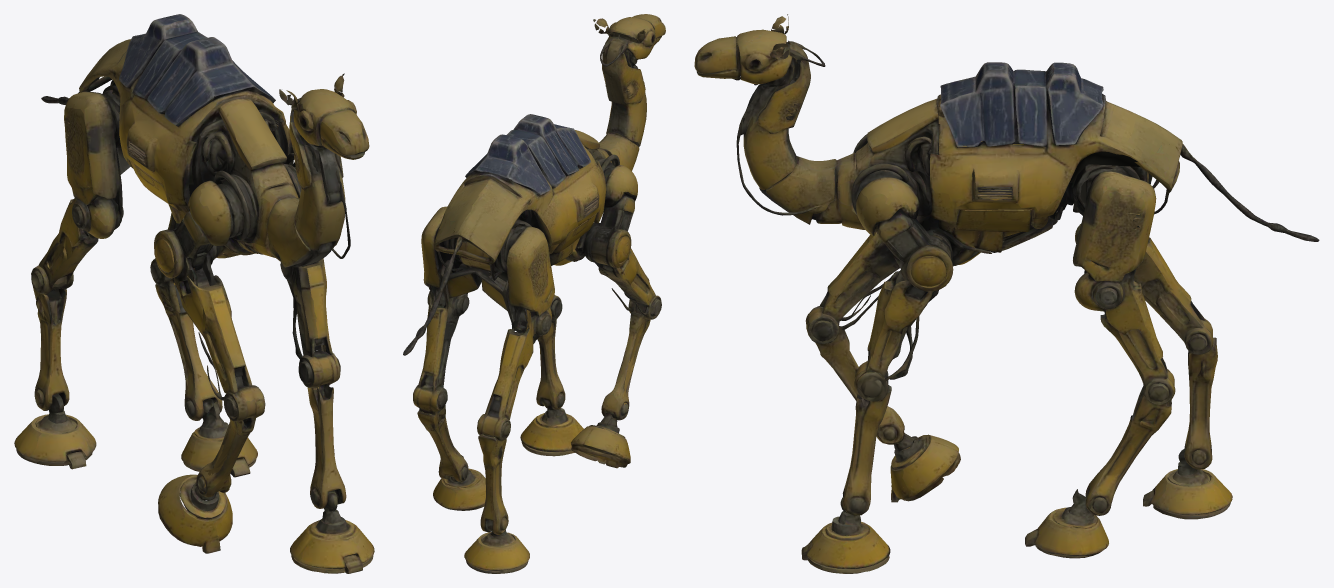
The picture shows the model from 3 angles, left to right: view 1: azimuth 30°, elevation 25°; view 2: azimuth 150°, elevation 25°; view 3: azimuth 270°, elevation 25°; orthographic projection. The views are drawn at different scales.
Parts seen in each view (by area): view 1: part_001_DORSAL_MODULE, part_002_FRONT_SHIN_L, part_003_HEAD_SENSOR, part_019_DORSAL_MODULE, part_008_DORSAL_MODULE, part_007_HEAD_SENSOR, part_013_FRONT_PAW_R, part_012_FRONT_PAW_L, part_005_FRONT_PAW_R, part_014_REAR_PAW_L, part_009_FRONT_THIGH_R, part_018_REAR_PAW_R (+18 smaller); view 2: part_001_DORSAL_MODULE, part_000_AFT_REACTOR, part_002_FRONT_SHIN_L, part_003_HEAD_SENSOR, part_008_DORSAL_MODULE, part_010_REAR_THIGH_L, part_007_HEAD_SENSOR, part_014_REAR_PAW_L, part_005_FRONT_PAW_R, part_017_REAR_PAW_L, part_012_FRONT_PAW_L, part_019_DORSAL_MODULE (+13 smaller); view 3: part_004_DORSAL_MODULE, part_000_AFT_REACTOR, part_003_HEAD_SENSOR, part_001_DORSAL_MODULE, part_002_FRONT_SHIN_L, part_007_HEAD_SENSOR, part_019_DORSAL_MODULE, part_009_FRONT_THIGH_R, part_013_FRONT_PAW_R, part_005_FRONT_PAW_R, part_010_REAR_THIGH_L, part_014_REAR_PAW_L (+17 smaller).
Boxes of the visible parts, x1=… form: part_001_DORSAL_MODULE: x1=79, y1=14, x2=267, y2=213; part_002_FRONT_SHIN_L: x1=154, y1=211, x2=265, y2=500; part_003_HEAD_SENSOR: x1=266, y1=111, x2=350, y2=267; part_019_DORSAL_MODULE: x1=147, y1=37, x2=275, y2=126; part_008_DORSAL_MODULE: x1=64, y1=91, x2=119, y2=204; part_007_HEAD_SENSOR: x1=279, y1=73, x2=369, y2=159; part_013_FRONT_PAW_R: x1=298, y1=350, x2=346, y2=508; part_012_FRONT_PAW_L: x1=158, y1=474, x2=232, y2=553; part_005_FRONT_PAW_R: x1=290, y1=490, x2=374, y2=573; part_014_REAR_PAW_L: x1=14, y1=393, x2=96, y2=469; part_009_FRONT_THIGH_R: x1=280, y1=258, x2=332, y2=358; part_018_REAR_PAW_R: x1=155, y1=280, x2=222, y2=420; part_001_DORSAL_MODULE: x1=447, y1=134, x2=606, y2=280; part_000_AFT_REACTOR: x1=413, y1=206, x2=522, y2=411; part_002_FRONT_SHIN_L: x1=584, y1=194, x2=661, y2=420; part_003_HEAD_SENSOR: x1=599, y1=50, x2=646, y2=170; part_008_DORSAL_MODULE: x1=506, y1=226, x2=554, y2=316; part_010_REAR_THIGH_L: x1=477, y1=309, x2=533, y2=440; part_007_HEAD_SENSOR: x1=593, y1=14, x2=665, y2=80; part_014_REAR_PAW_L: x1=464, y1=520, x2=529, y2=573; part_005_FRONT_PAW_R: x1=520, y1=399, x2=583, y2=456; part_017_REAR_PAW_L: x1=477, y1=425, x2=508, y2=534; part_012_FRONT_PAW_L: x1=571, y1=413, x2=630, y2=468; part_019_DORSAL_MODULE: x1=513, y1=114, x2=590, y2=176; part_004_DORSAL_MODULE: x1=930, y1=124, x2=1180, y2=252; part_000_AFT_REACTOR: x1=1073, y1=171, x2=1175, y2=404; part_003_HEAD_SENSOR: x1=736, y1=61, x2=836, y2=224; part_001_DORSAL_MODULE: x1=936, y1=62, x2=1208, y2=188; part_002_FRONT_SHIN_L: x1=805, y1=228, x2=931, y2=451; part_007_HEAD_SENSOR: x1=694, y1=14, x2=825, y2=86; part_019_DORSAL_MODULE: x1=940, y1=62, x2=1019, y2=147; part_009_FRONT_THIGH_R: x1=866, y1=254, x2=938, y2=380; part_013_FRONT_PAW_R: x1=842, y1=361, x2=891, y2=515; part_005_FRONT_PAW_R: x1=801, y1=497, x2=890, y2=573; part_010_REAR_THIGH_L: x1=1134, y1=237, x2=1213, y2=354; part_014_REAR_PAW_L: x1=1143, y1=448, x2=1232, y2=519.
Size of the model in its own units: 0.3182 by 0.8881 by 0.9996.
Materials: 1 (1 with a texture image).
